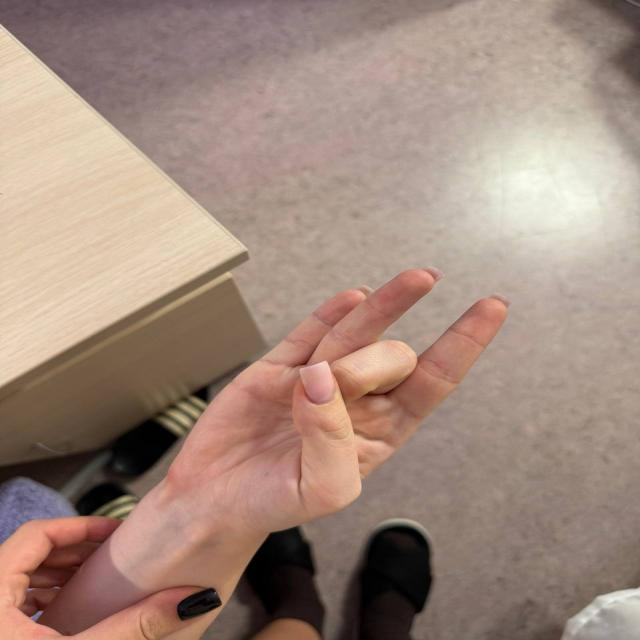r: (153, 247, 524, 570)
